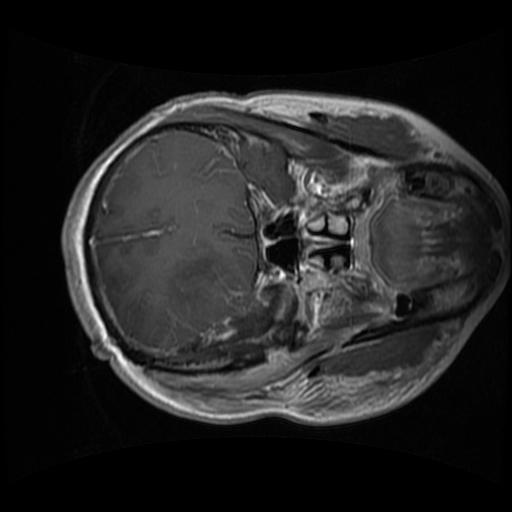glioma: (146, 283, 296, 370)
